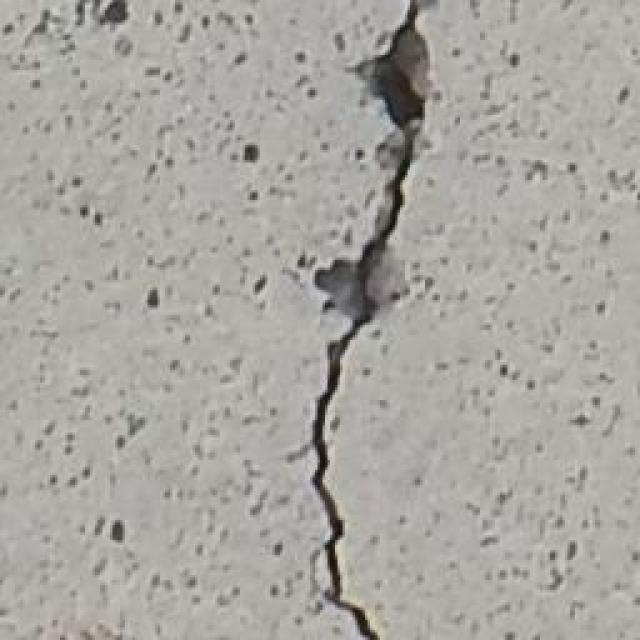concrete-crack: (305, 4, 436, 639)
